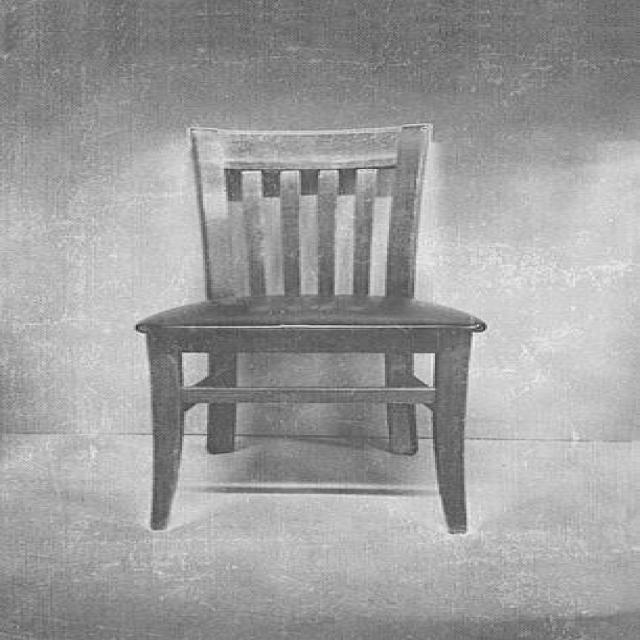chair: (124, 118, 491, 537)
